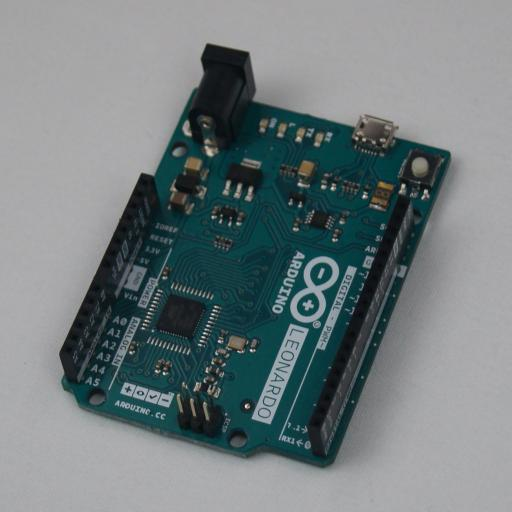Arduino Leonardo: (59, 43, 451, 468)
